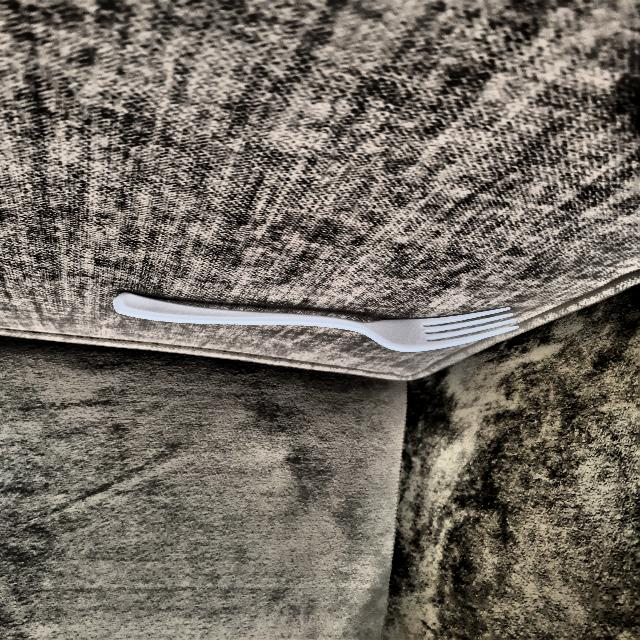plastic utensil: (113, 287, 523, 354)
